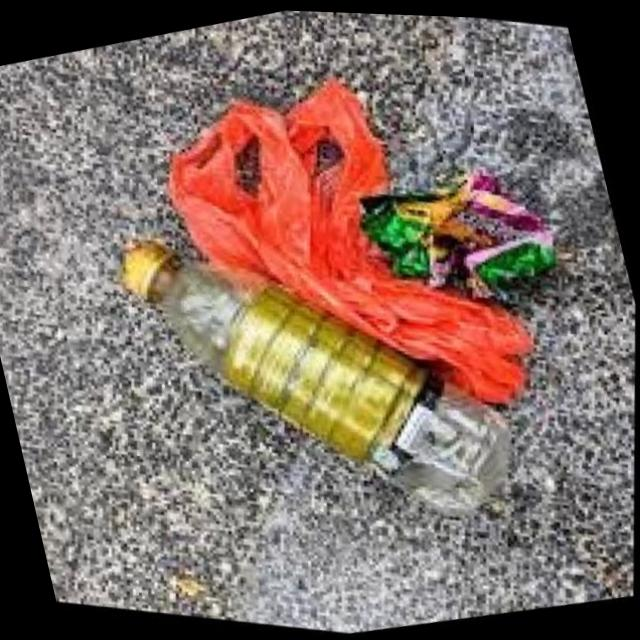leaf: (67, 143, 564, 620), (318, 110, 634, 375)
metal: (107, 3, 600, 485)
